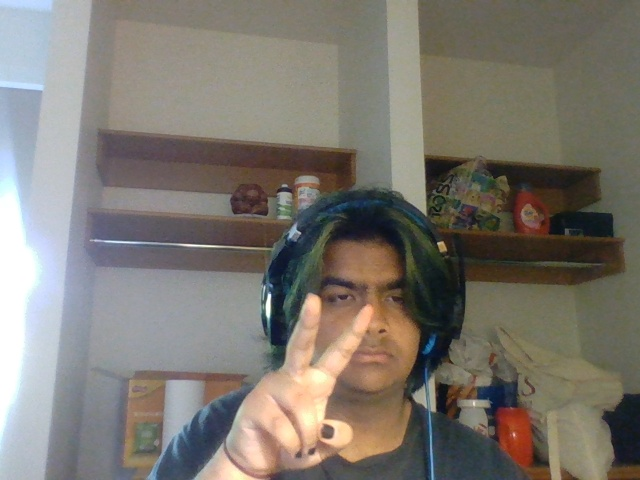v: (225, 284, 377, 472)
